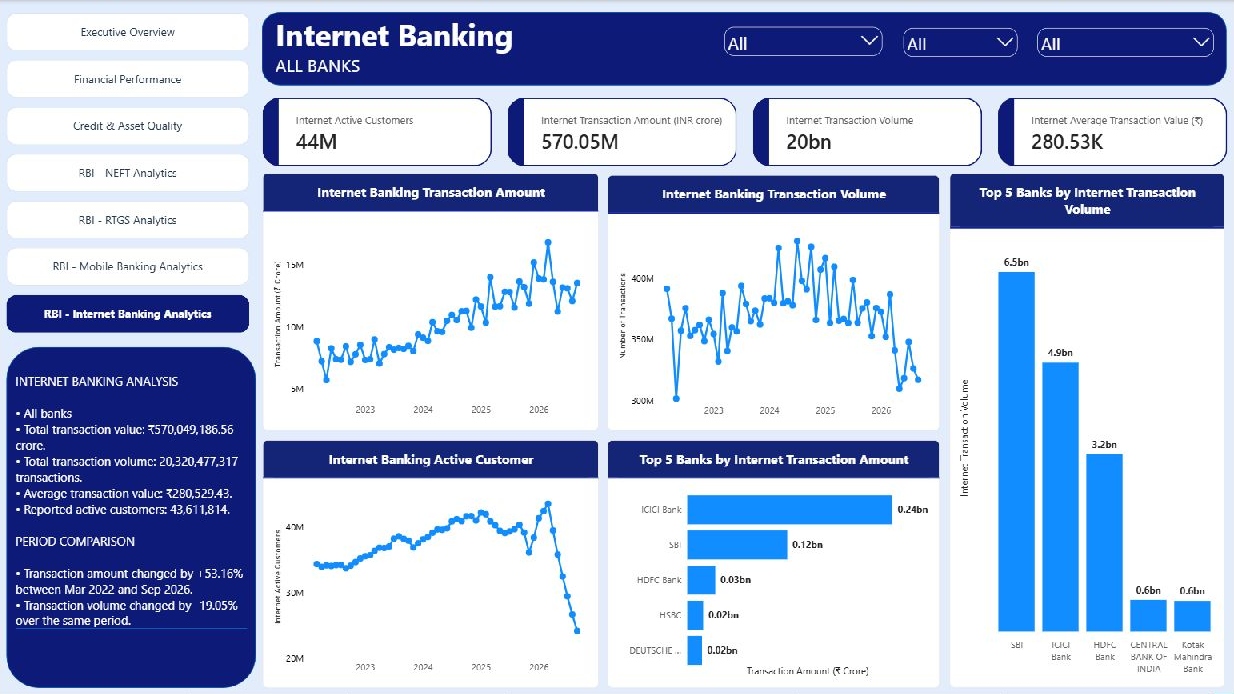

The page's visual inventory and layout, read from the dashboard file:
{"tool":"powerbi","page":{"name":"RBI - Internet Banking Analytics","canvas":[1920,1080],"ordinal":6},"visuals":[{"type":"shape","box":[408,18,1510,114],"z":0},{"type":"slicer","fields":{"Values":["Internet Banking.Year"]},"box":[1597.3,18.5,304.6,111.1],"z":1000},{"type":"pageNavigator","box":[0,0,408.3,539.3],"z":2000},{"type":"shape","box":[0,540,408,530],"z":3000},{"type":"textbox","box":[25,580,360,490],"z":4000},{"type":"textbox","title":"Internet Banking ","box":[408.5,10.5,703.3,132.7],"z":5000},{"type":"cardVisual","fields":{"Data":["Internet Banking.Internet Active Customers (reported)","Internet Banking.Internet Transaction Amount (INR crore)","Internet Banking.Internet Transaction Volume","Internet Banking.Internet Average Transaction Value (₹)"]},"box":[408.5,132.7,1511.9,136.9],"z":6000},{"type":"lineChart","title":"Internet Banking Transaction Amount ","fields":{"Category":["Internet Banking.MonthDate"],"Y":["Internet Banking.Internet Transaction Amount (INR crore)"]},"box":[408.5,269.5,522.2,400.1],"z":7000},{"type":"lineChart","title":"Internet Banking Transaction Volume ","fields":{"Category":["Internet Banking.MonthDate"],"Y":["Internet Banking.Internet Transaction Volume"]},"box":[945.5,271.6,515.9,398],"z":8000},{"type":"clusteredBarChart","title":"Top 5 Banks by Internet Transaction Amount","fields":{"Category":["Internet Banking.Bank Name"],"Y":["Internet Banking.Internet Transaction Amount (INR crore)"]},"box":[945.5,684.4,515.9,385.3],"z":9000},{"type":"clusteredColumnChart","title":"Top 5 Banks by Internet Transaction Volume","fields":{"Category":["Internet Banking.Bank Name"],"Y":["Internet Banking.Internet Transaction Volume"]},"box":[1476.1,269.5,427.5,800.2],"z":10000},{"type":"slicer","fields":{"Values":["Internet Banking.Month"]},"box":[1389.4,18.5,207.9,111.1],"z":11000},{"type":"slicer","fields":{"Values":["Internet Banking.Bank Name"]},"box":[1111.7,17.7,275.5,112.2],"z":12000},{"type":"lineChart","title":"Internet Banking Active Customer","fields":{"Category":["Internet Banking.MonthDate"],"Y":["Internet Banking.Internet Active Customers (reported)"]},"box":[408.5,684.4,522.2,385.3],"z":13000}]}

Visuals, with their boxes in screenshot pixels (x1, y1, x2, y2), scaled from the page's 1920x1080 canvas onto the 1234x694 screenshot:
shape: {"x1": 262, "y1": 12, "x2": 1233, "y2": 85}
slicer - Internet Banking.Year: {"x1": 1027, "y1": 12, "x2": 1222, "y2": 83}
pageNavigator: {"x1": 0, "y1": 0, "x2": 262, "y2": 347}
shape: {"x1": 0, "y1": 347, "x2": 262, "y2": 688}
textbox: {"x1": 16, "y1": 373, "x2": 247, "y2": 688}
"Internet Banking " textbox: {"x1": 263, "y1": 7, "x2": 715, "y2": 92}
cardVisual - Internet Banking.Internet Active Customers (reported) x Internet Banking.Internet Transaction Amount (INR crore): {"x1": 263, "y1": 85, "x2": 1233, "y2": 173}
"Internet Banking Transaction Amount " lineChart: {"x1": 263, "y1": 173, "x2": 598, "y2": 430}
"Internet Banking Transaction Volume " lineChart: {"x1": 608, "y1": 175, "x2": 939, "y2": 430}
"Top 5 Banks by Internet Transaction Amount" clusteredBarChart: {"x1": 608, "y1": 440, "x2": 939, "y2": 687}
"Top 5 Banks by Internet Transaction Volume" clusteredColumnChart: {"x1": 949, "y1": 173, "x2": 1223, "y2": 687}
slicer - Internet Banking.Month: {"x1": 893, "y1": 12, "x2": 1027, "y2": 83}
slicer - Internet Banking.Bank Name: {"x1": 714, "y1": 11, "x2": 892, "y2": 83}
"Internet Banking Active Customer" lineChart: {"x1": 263, "y1": 440, "x2": 598, "y2": 687}
